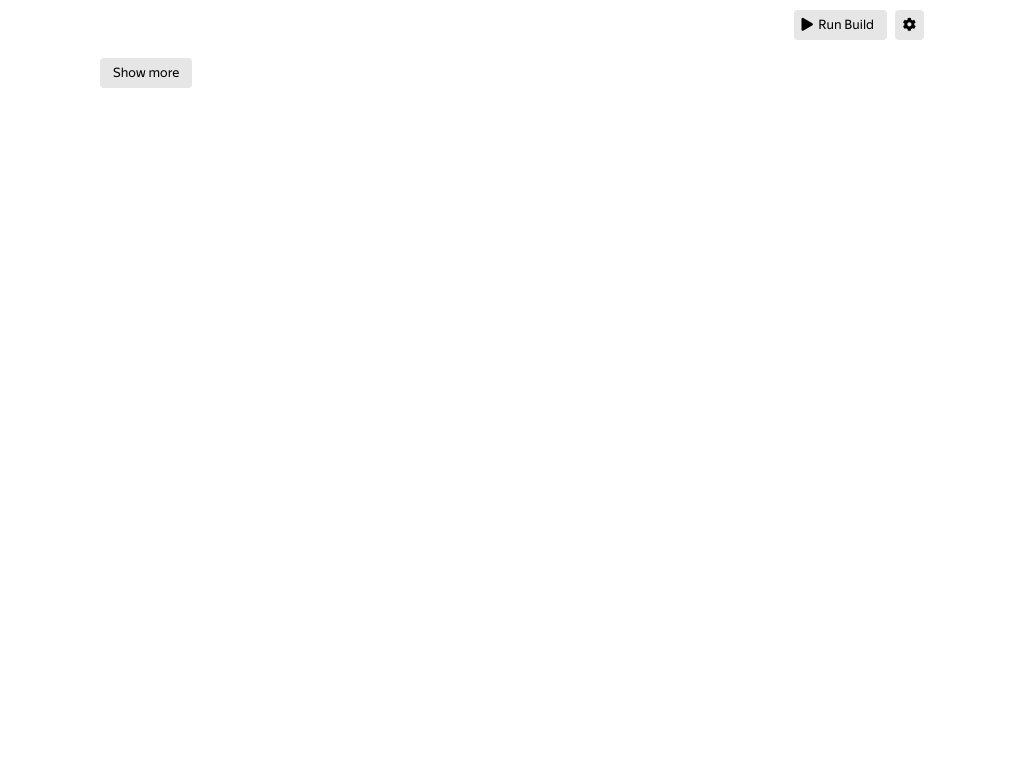
Test: testing BuildDetails view component › попап уходит после клика на затемненный экран
The width and height of the screenshot is (1024, 768).
Click the button with test id "BuildHistory-runBuildButton": (840,25) [794, 10, 887, 40]
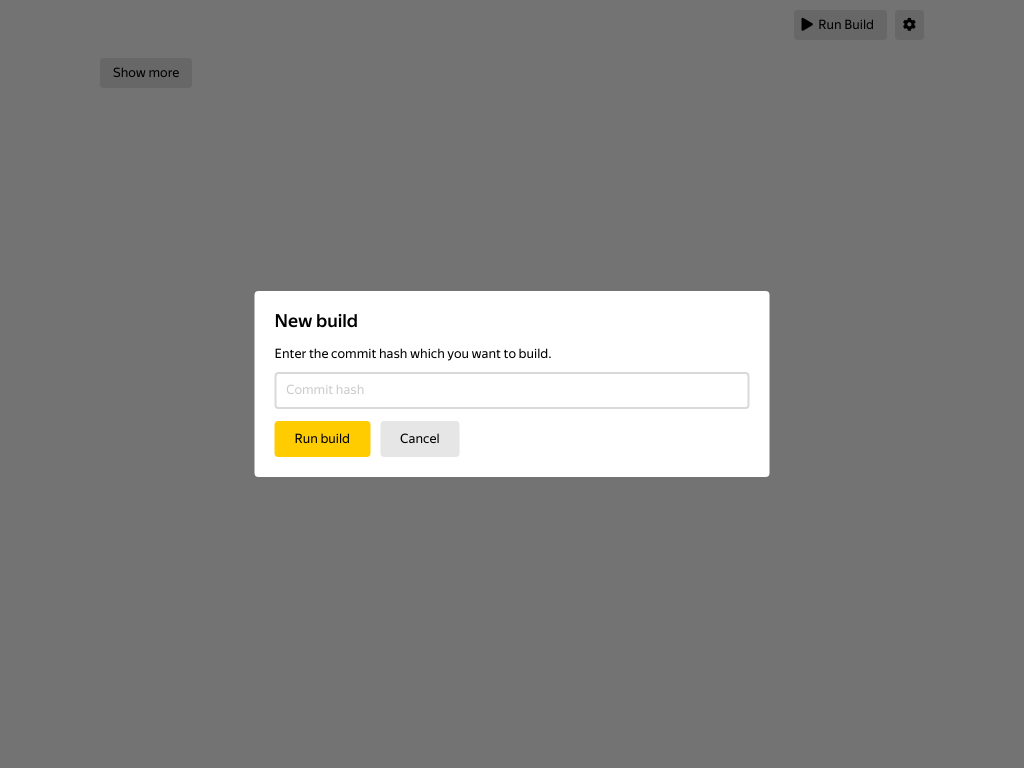
Click the element with test id "PopUpBox-BlackBackground": (61,384) [0, 0, 1023, 767]
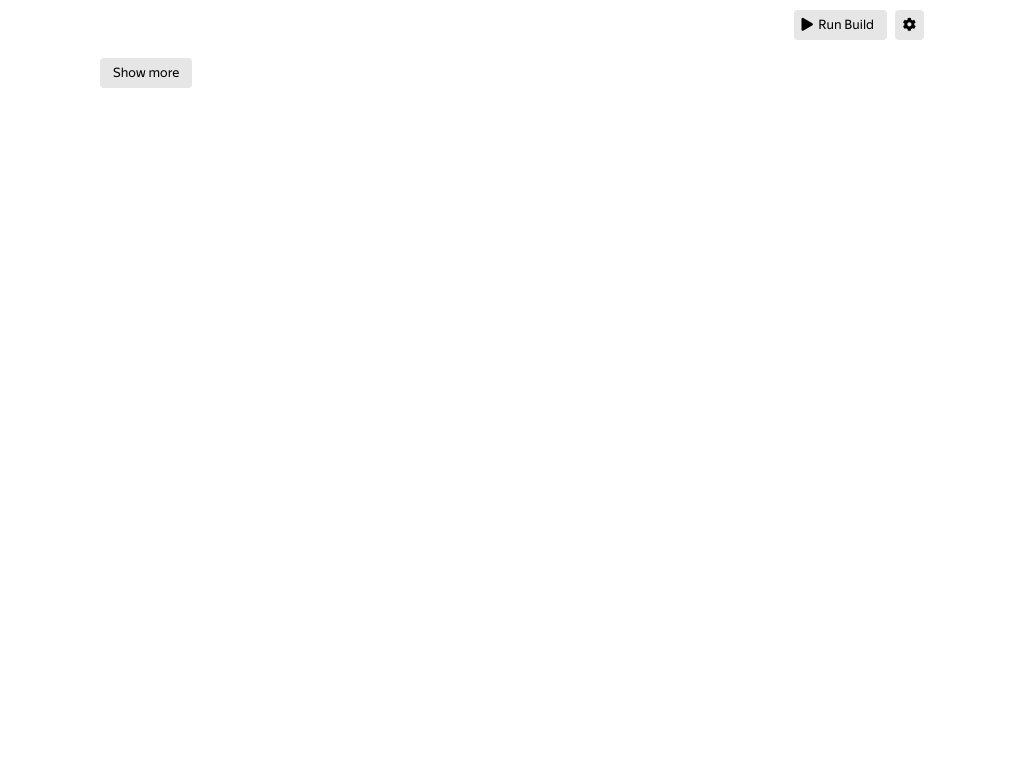
Check: the element with test id "PopUpBox" is gone
